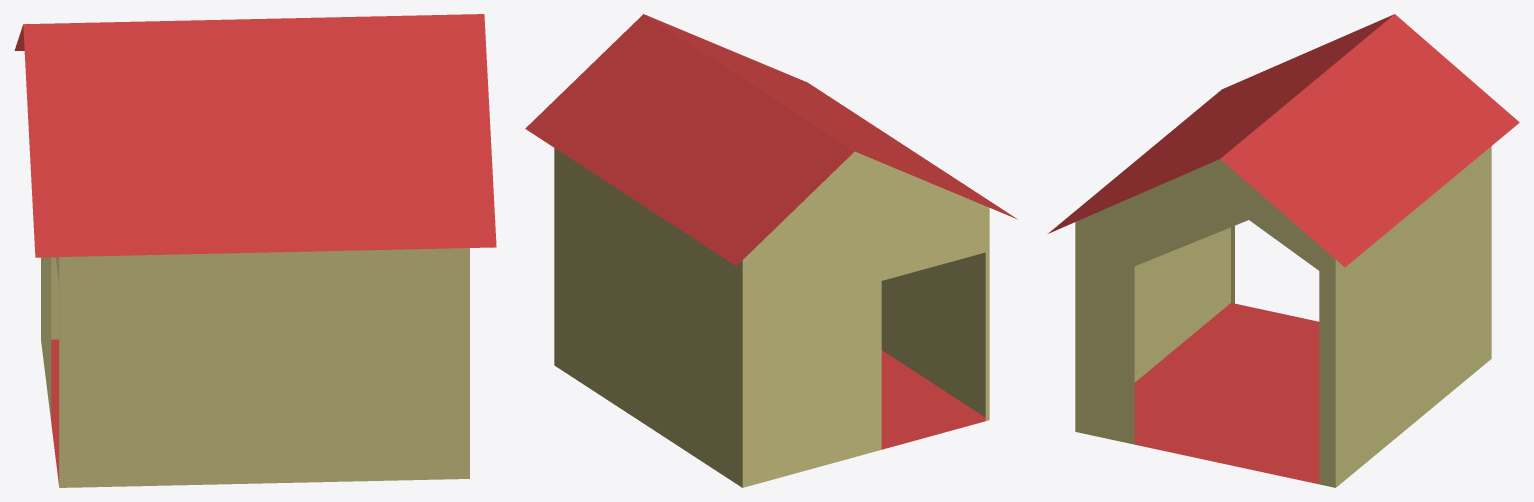
3 views of the same model, side by side, from view 1: azimuth 30°, elevation 25°; view 2: azimuth 150°, elevation 25°; view 3: azimuth 270°, elevation 25° (orthographic). The views are drawn at different scales.
Bounding box in the file's own units: 17.61 × 16.83 × 12.33.
